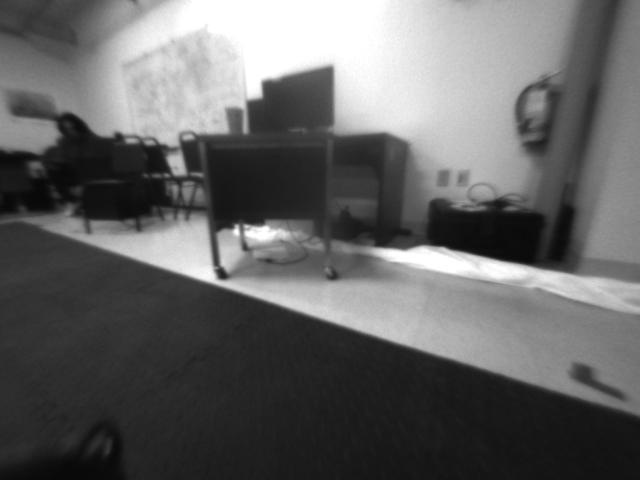coffee_cup: (225, 107, 245, 133)
